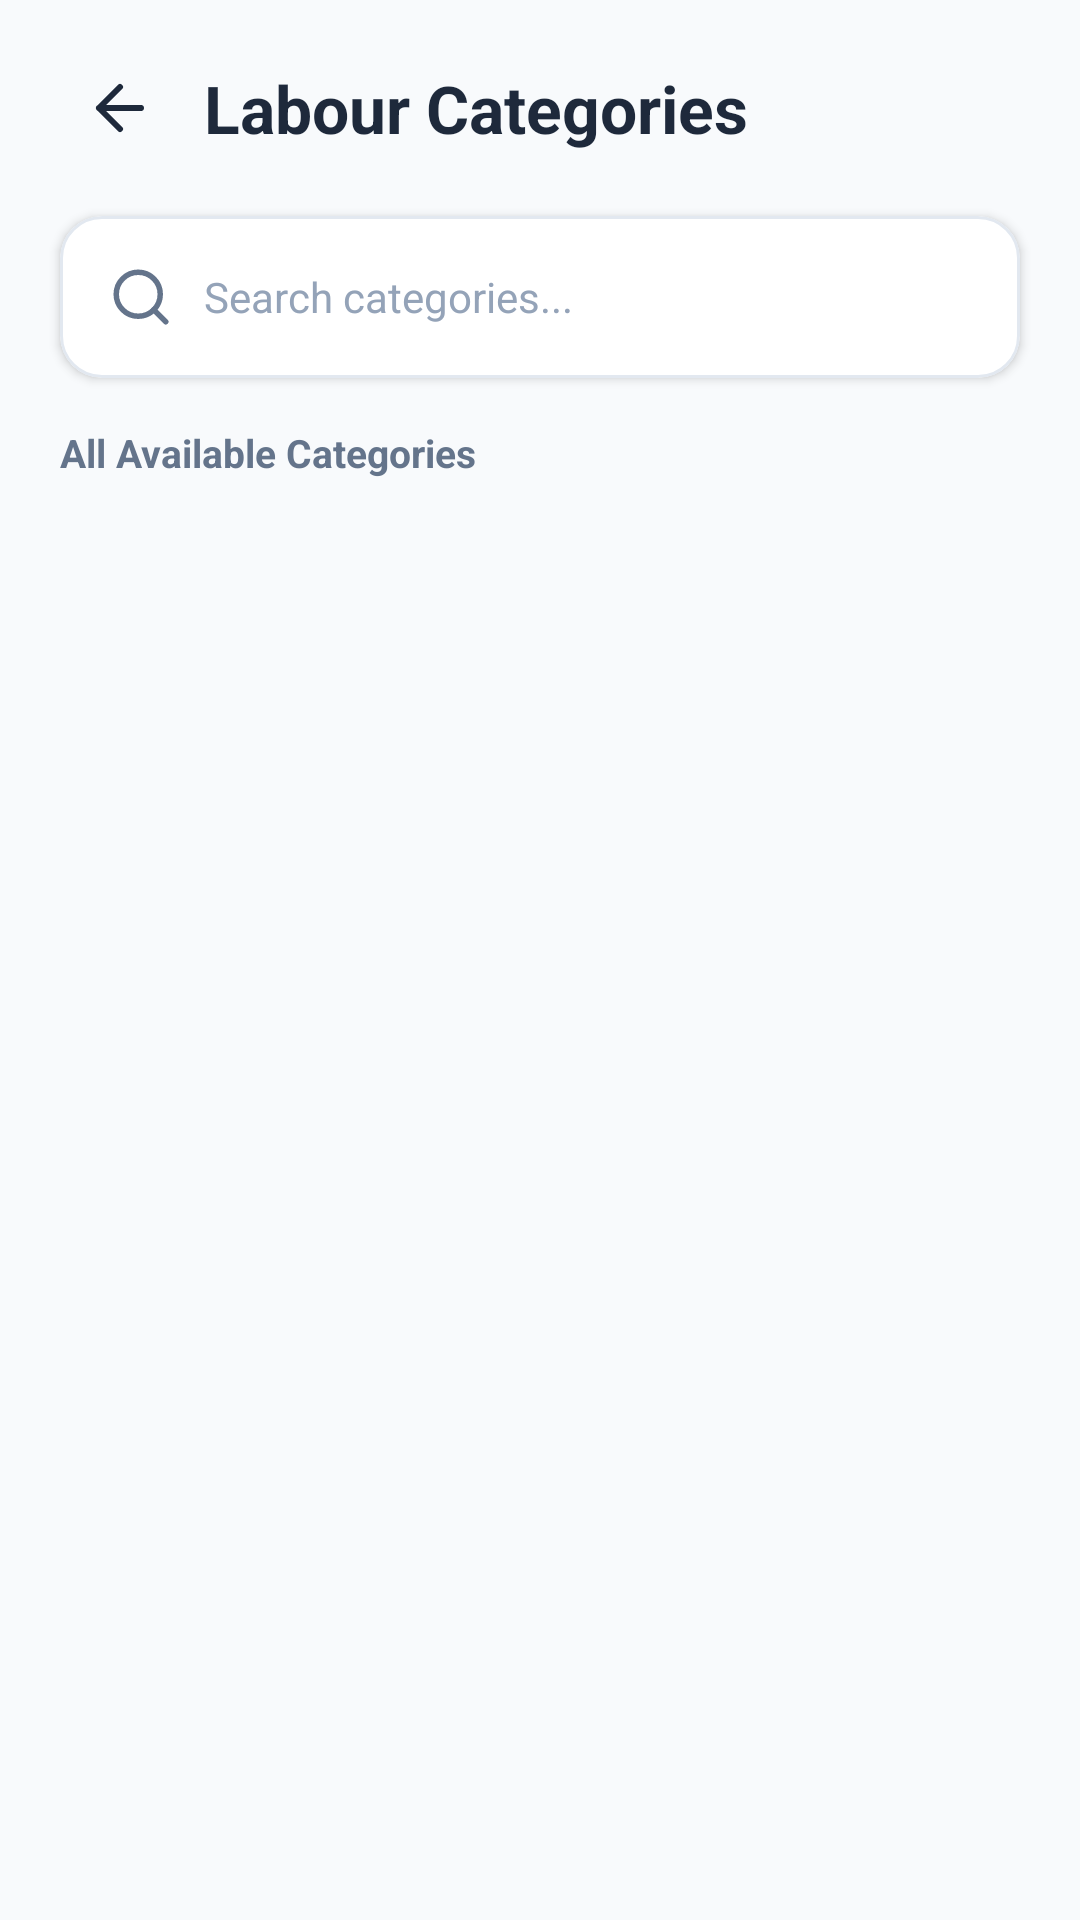

Icon bounding boxes for this 1080 × 1920 phone screenshot, format (x1, y1, x2, y2):
Back: (96, 84, 144, 132)
